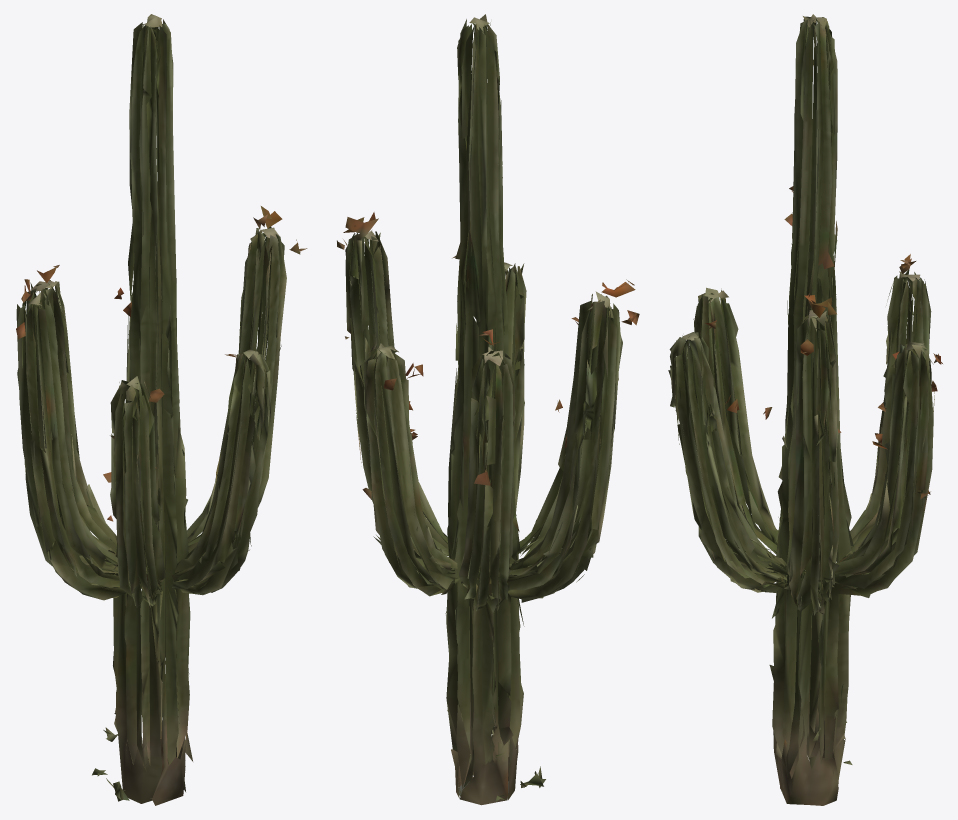
File: cacto_colunar_jovem.glb
The picture shows the model from 3 angles, left to right: view 1: azimuth 30°, elevation 25°; view 2: azimuth 150°, elevation 25°; view 3: azimuth 270°, elevation 25°; orthographic projection.
Parts seen in each view (by area): view 1: geometry_0; view 2: geometry_0; view 3: geometry_0.
Part boxes in pixels (x1,y1,x2,y2): geometry_0: [16, 14, 307, 805]; geometry_0: [337, 14, 639, 805]; geometry_0: [668, 14, 942, 805].
Size of the model in its own units: 0.3992 by 1 by 0.3202.
Materials: 1 (1 with a texture image).
